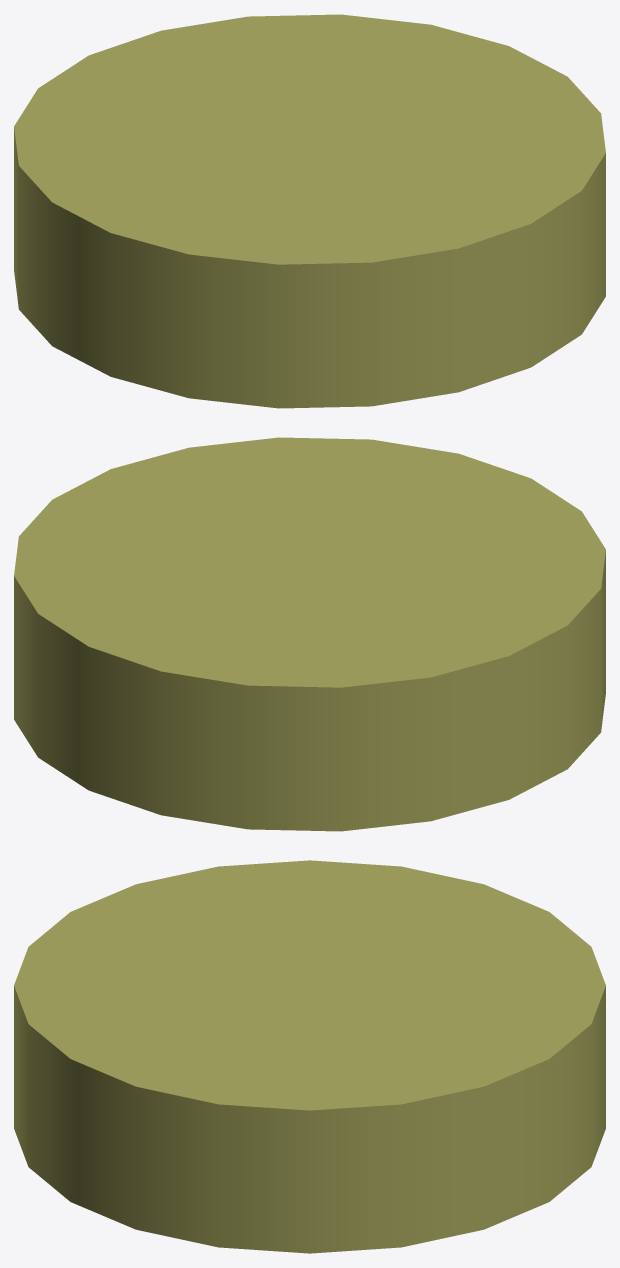
Rendered from arenaFina.fbx.
The picture shows the model from 3 angles, top to bottom: view 1: azimuth 30°, elevation 25°; view 2: azimuth 150°, elevation 25°; view 3: azimuth 270°, elevation 25°; orthographic projection.
Visible parts, largest first — view 1: ArenaFina; view 2: ArenaFina; view 3: ArenaFina.
Part boxes in pixels (bbox=[...]): ArenaFina: bbox=[14, 14, 605, 408]; ArenaFina: bbox=[14, 437, 605, 831]; ArenaFina: bbox=[14, 860, 605, 1253].
Bounding box in the file's own units: 2.14 × 0.5712 × 2.14.
